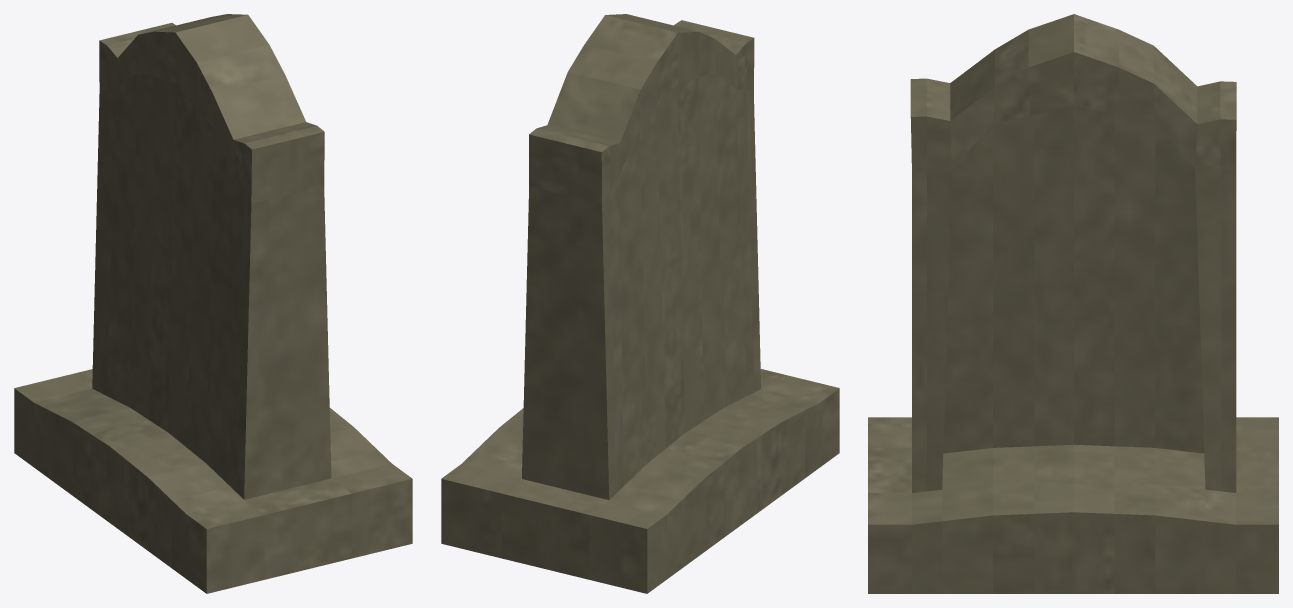
Rendered from Acosta_I_FancyGravePointy.fbx.
3 renders of one model, left to right at view 1: azimuth 30°, elevation 25°; view 2: azimuth 150°, elevation 25°; view 3: azimuth 270°, elevation 25°, orthographic. The views are drawn at different scales.
Visible parts, largest first — view 1: Cube; view 2: Cube; view 3: Cube.
Boxes of the visible parts, x1,y1,x2,y2 form: Cube: (14,14,412,593); Cube: (441,14,839,593); Cube: (868,14,1278,593).
Size of the model in its own units: 312 by 688 by 506.
